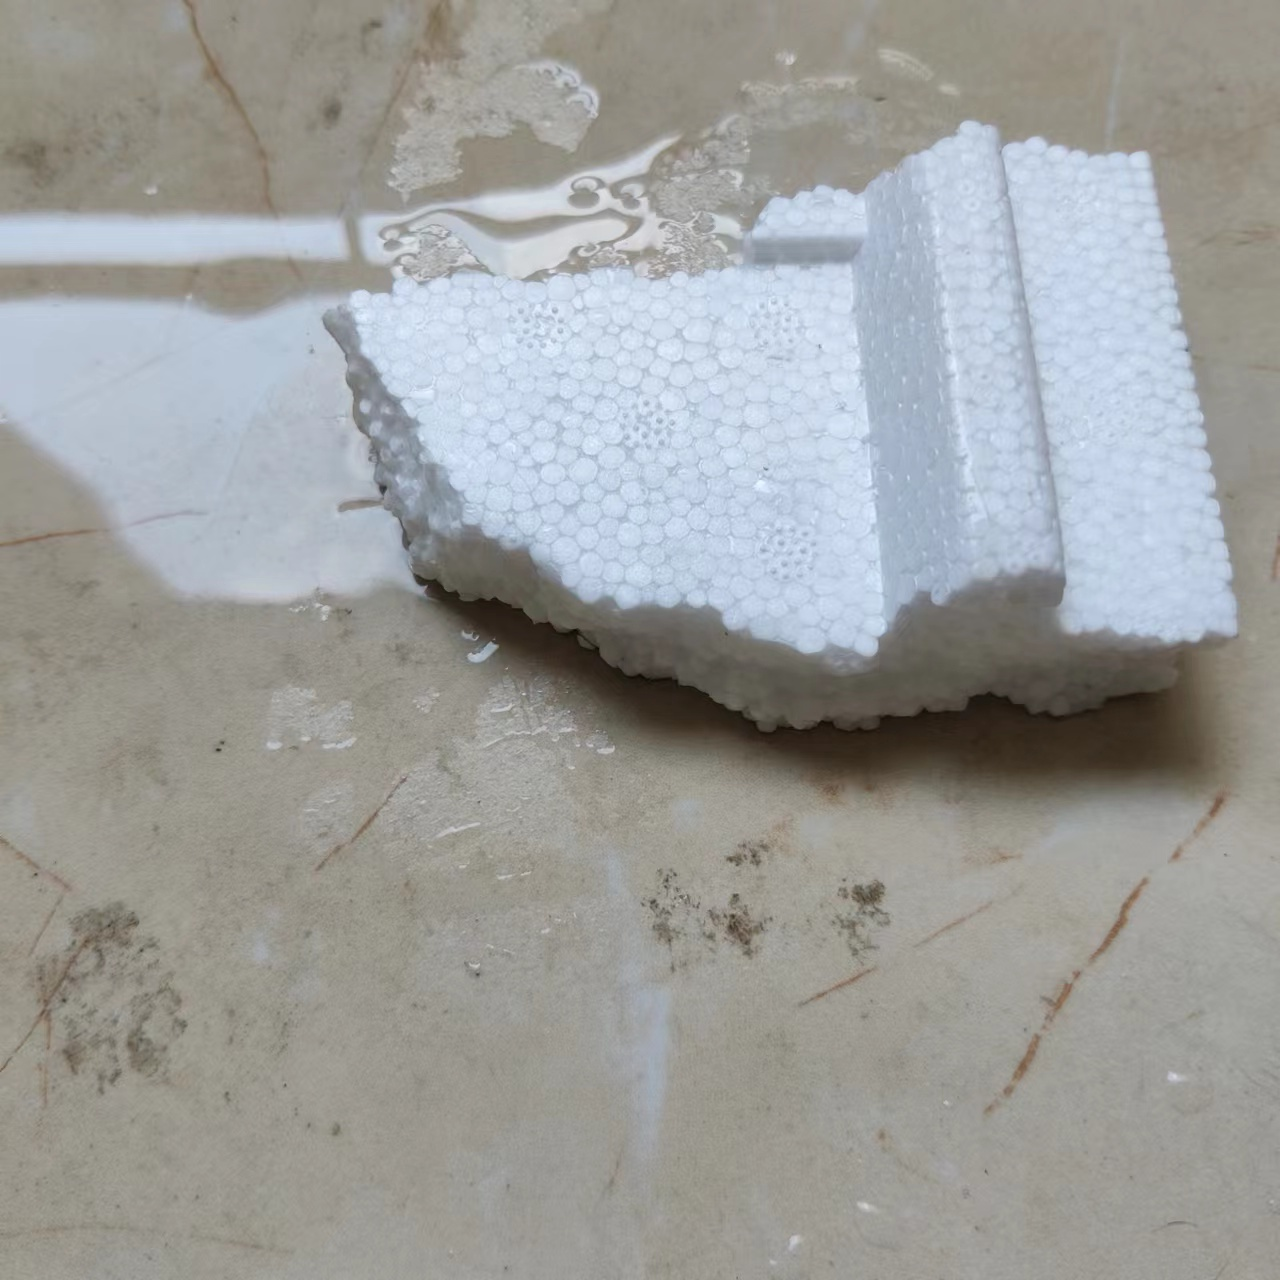5/可回收垃圾/泡沫: (322, 120, 1238, 733)
